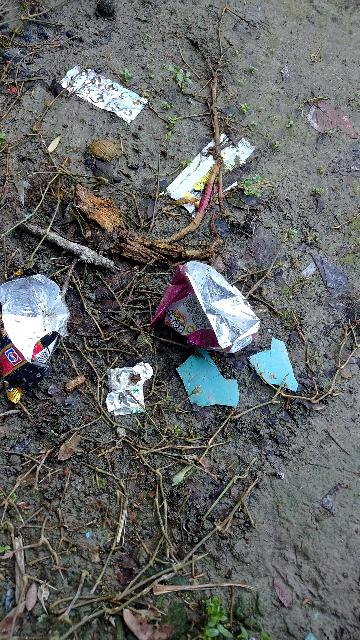packet: (160, 261, 268, 359), (0, 273, 79, 380)
